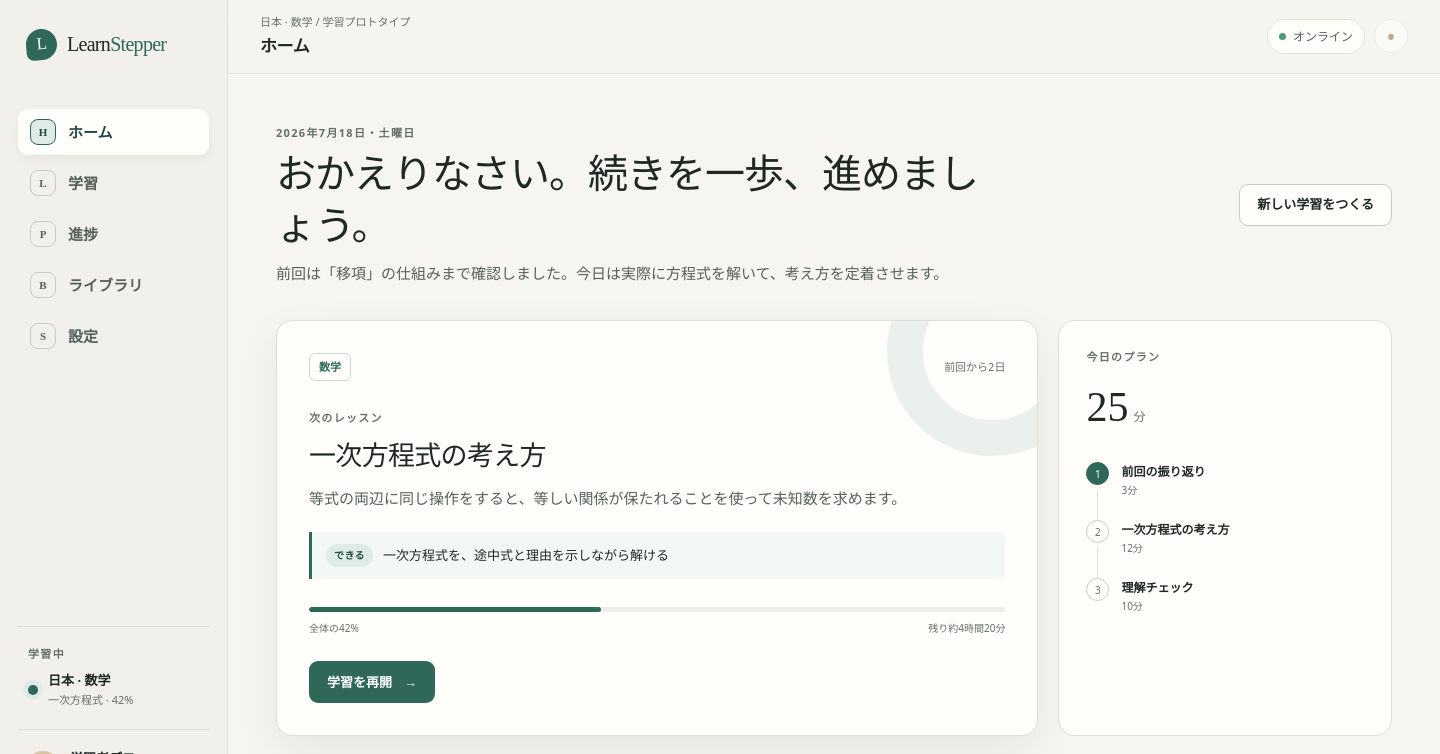
Test: LearnStepper prototype journeys › keeps a sent question visible when connection is lost
The width and height of the screenshot is (1440, 754).
Click the button "学習を再開 →" at (372, 682), box [309,662,435,704]
(page scrolled)
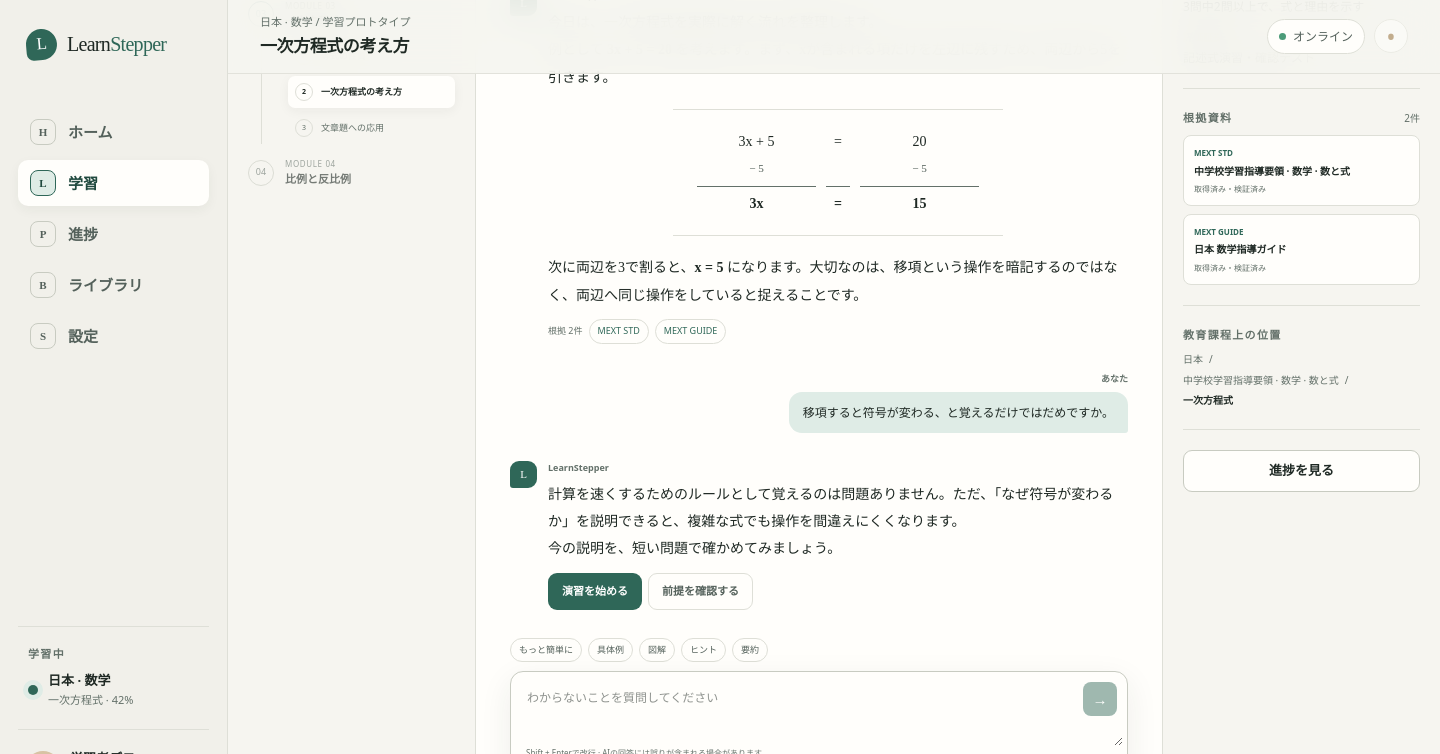
Type "両辺に同じ操作をする理由は何ですか" into the text box named "質問を入力" at (819, 711), box [515,676,1123,746]
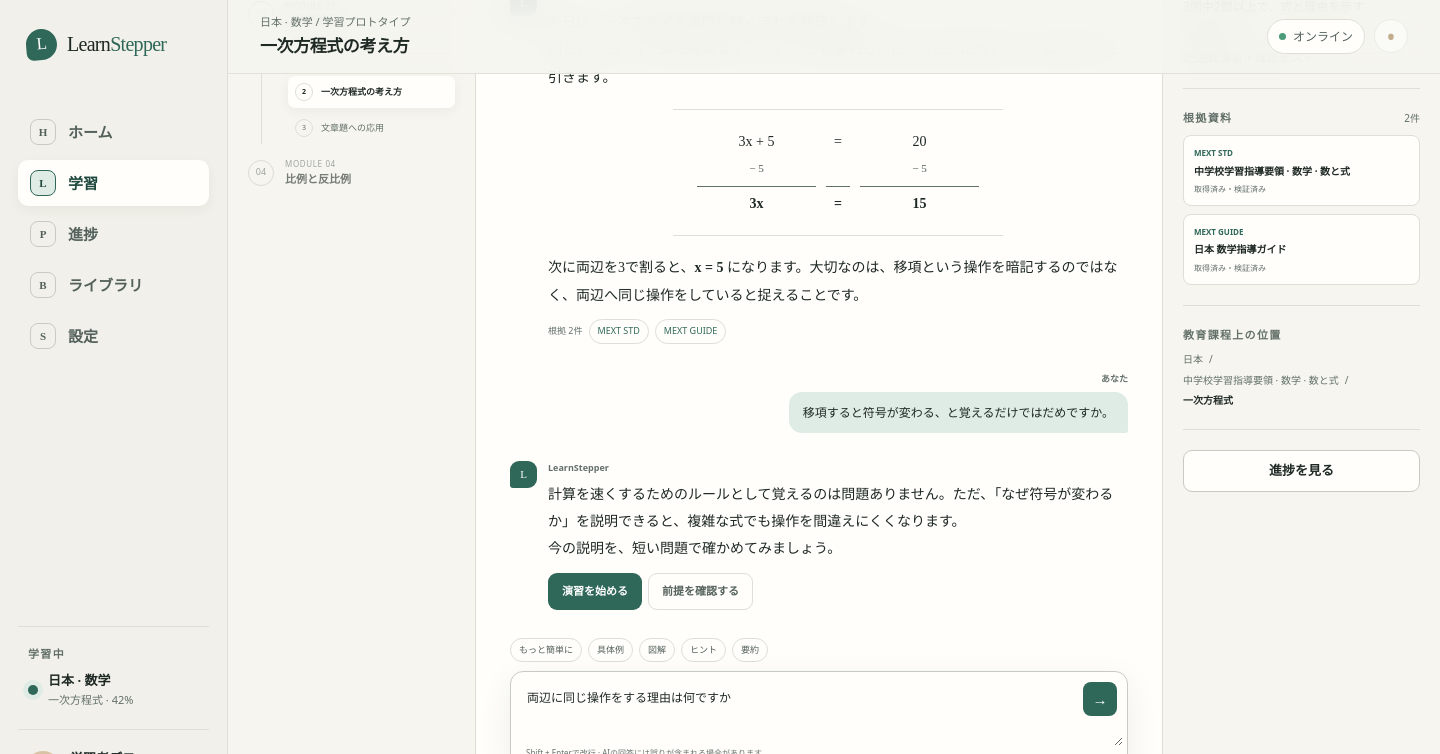
Click the button named "質問を送信" at (1100, 699), box [1083,682,1117,716]
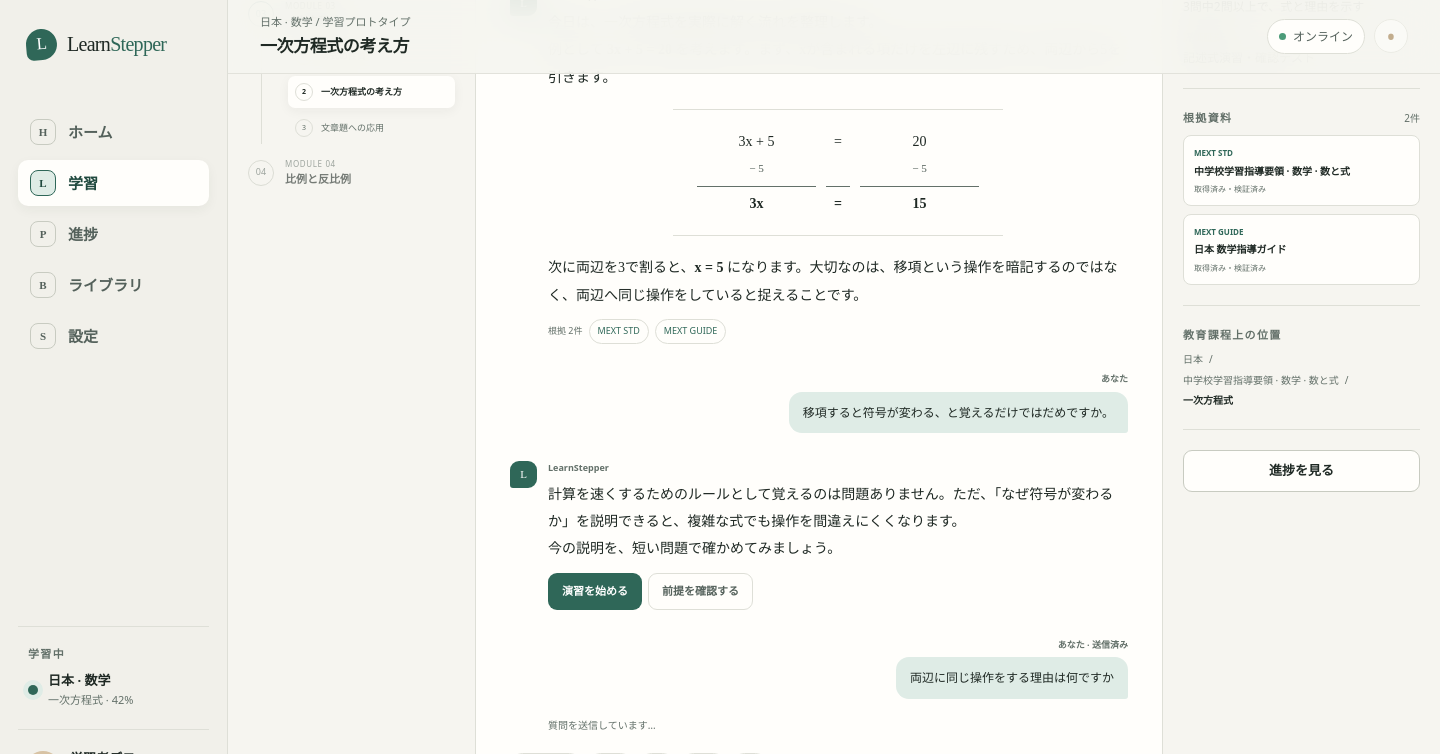
Click the button "オンライン" at (1316, 36), box [1267,19,1365,54]
(page scrolled)
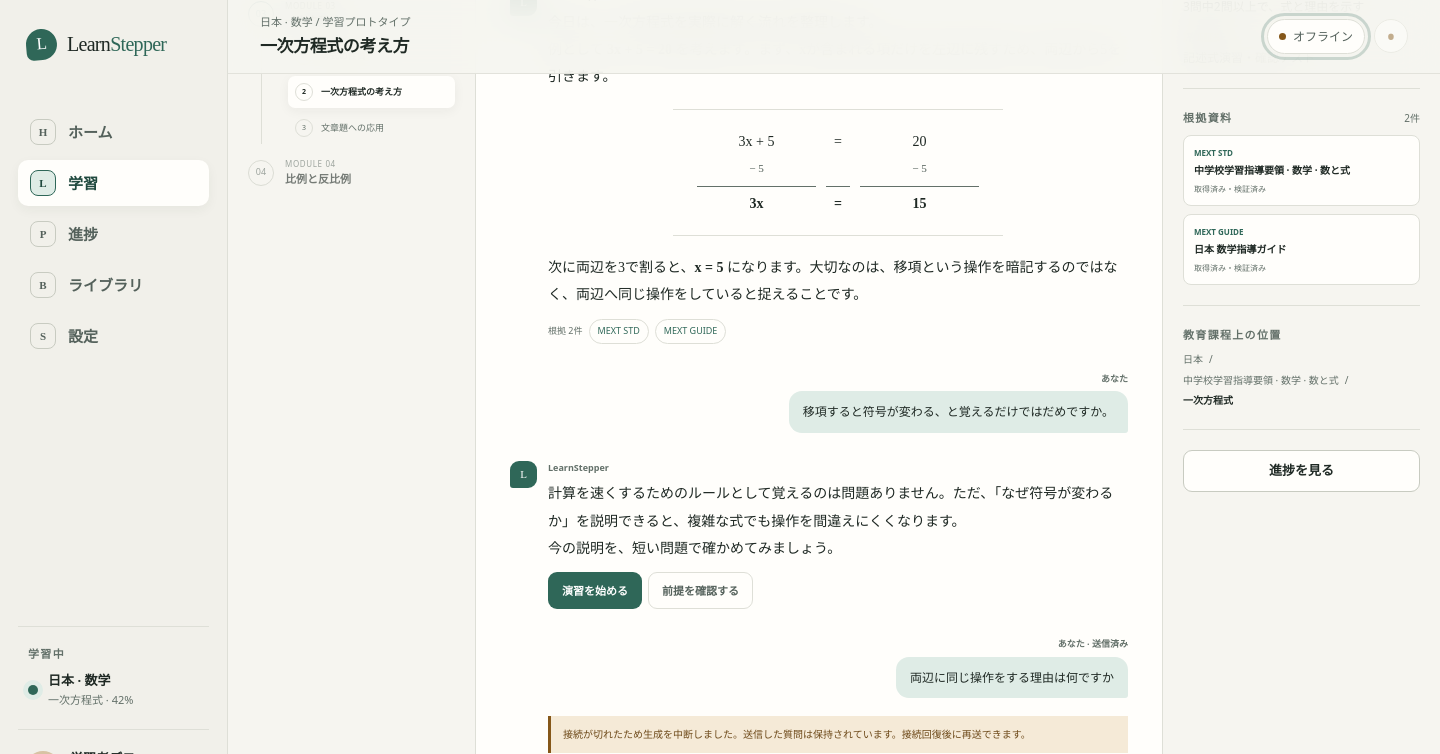
Expected: the text "両辺に同じ操作をする理由は何ですか" is shown, [910,669,1114,686]
Expected: the message shows "送信した質問は保持されています", [563,727,1031,741]
